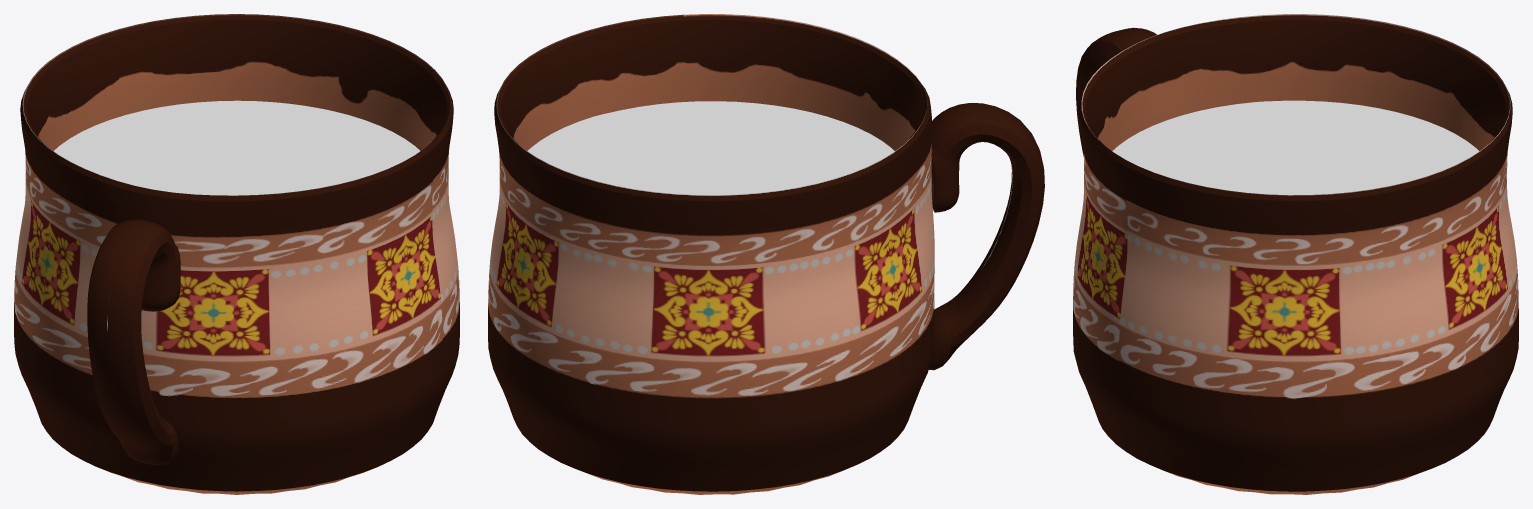
File: Jarrito1.fbx
3 renders of one model, left to right at view 1: azimuth 30°, elevation 25°; view 2: azimuth 150°, elevation 25°; view 3: azimuth 270°, elevation 25°, orthographic.
Parts seen in each view (by area): view 1: Taza2, Kafo2; view 2: Taza2, Kafo2; view 3: Taza2, Kafo2.
Boxes of the visible parts, x1=… form: Taza2: x1=14, y1=14, x2=459, y2=494; Kafo2: x1=54, y1=100, x2=420, y2=195; Taza2: x1=488, y1=14, x2=1044, y2=494; Kafo2: x1=527, y1=101, x2=894, y2=195; Taza2: x1=1073, y1=14, x2=1518, y2=494; Kafo2: x1=1112, y1=100, x2=1479, y2=195.
Bounding box in the file's own units: 146 × 104 × 130.
